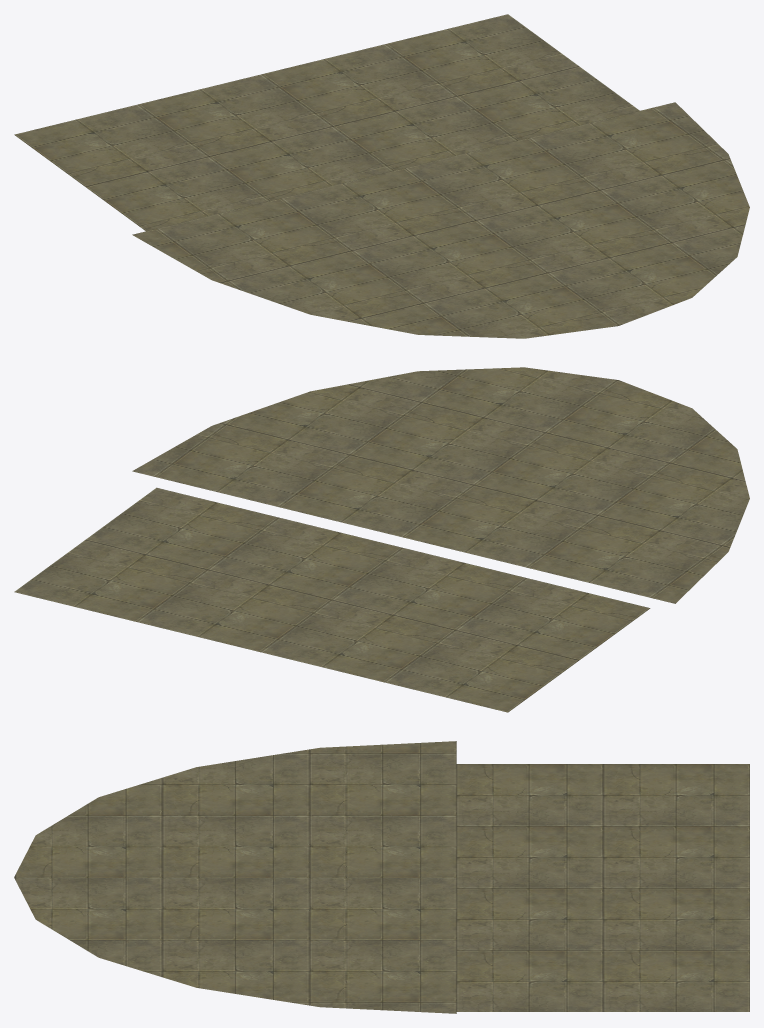
File: Floor_Maincity_001.FBX
The picture shows the model from 3 angles, top to bottom: view 1: azimuth 30°, elevation 25°; view 2: azimuth 150°, elevation 25°; view 3: azimuth 270°, elevation 25°; orthographic projection. The views are drawn at different scales.
Visible parts, largest first — view 1: Floor_Maincity_001; view 2: Floor_Maincity_001; view 3: Floor_Maincity_001.
Boxes of the visible parts, <box> form: Floor_Maincity_001: <box>14,14,749,338</box>; Floor_Maincity_001: <box>14,367,749,712</box>; Floor_Maincity_001: <box>14,741,749,1013</box>.
Size of the model in its own units: 2200 by 40 by 2509.
Materials: 1 (1 with a texture image).
